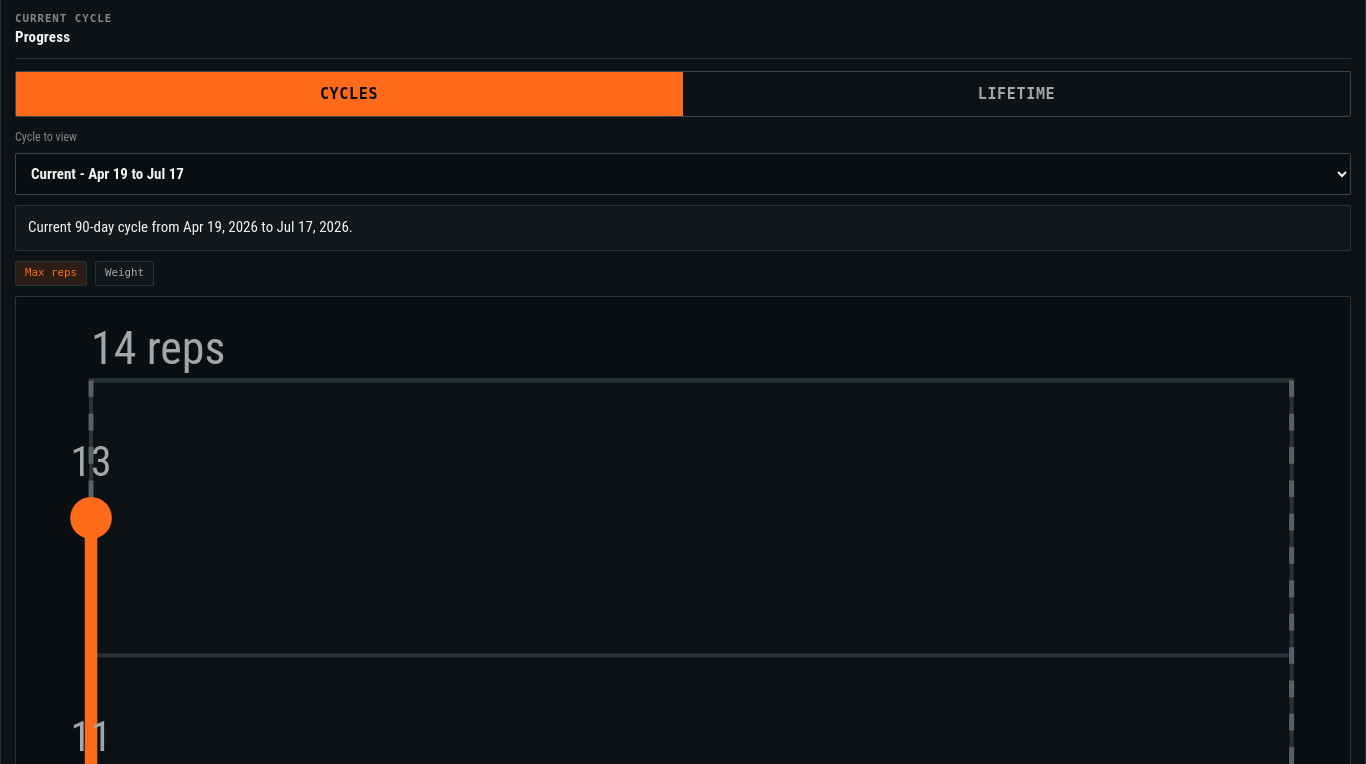
Test case: compact hybrid UI refresh › combines progress charts with clear full-workout history cards
Expected: the text "11" is shown, [70,712,112,761]
Expected: the text "13" is shown, [70,437,112,486]
Click the button "Weight". click: (124, 273)
box: [95,260,154,286]
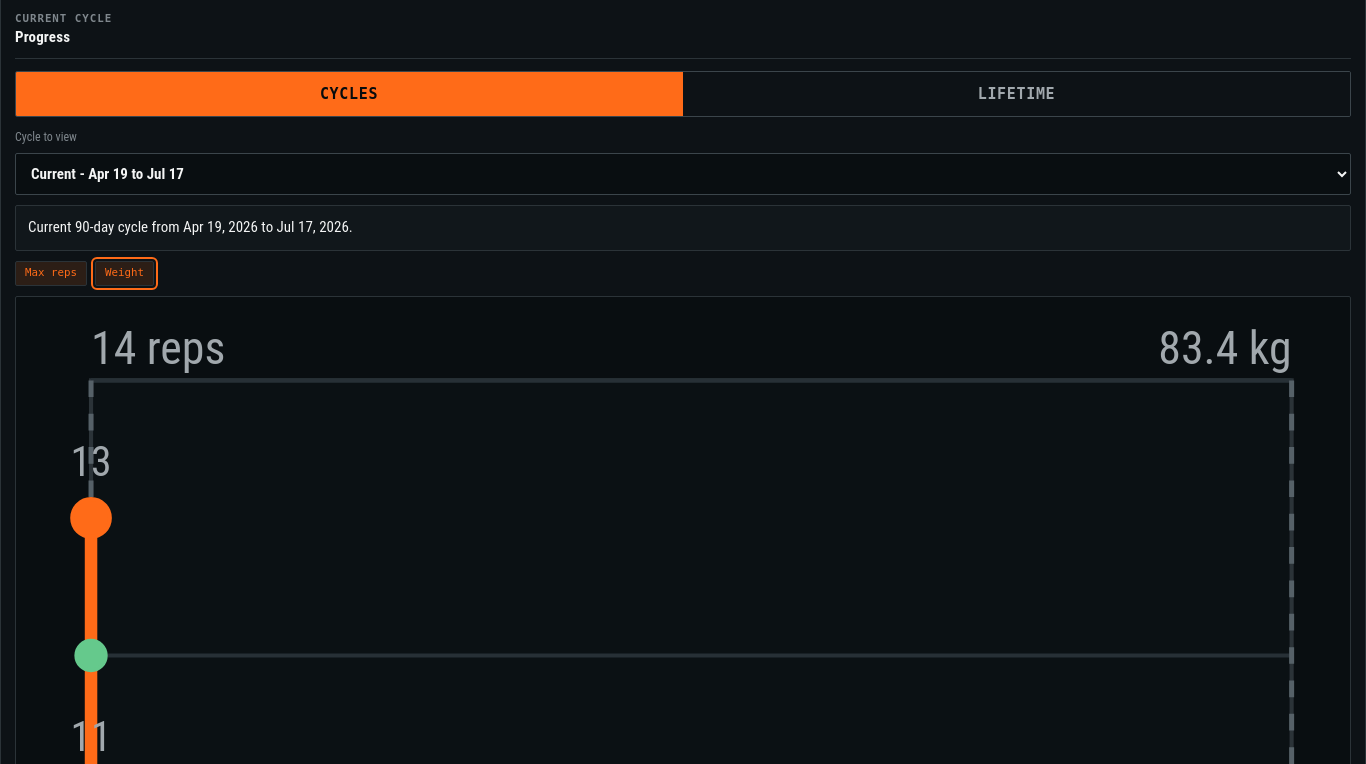
Click the button "Lifetime". click: (1016, 94)
box: [683,72,1350,116]
(page scrolled)
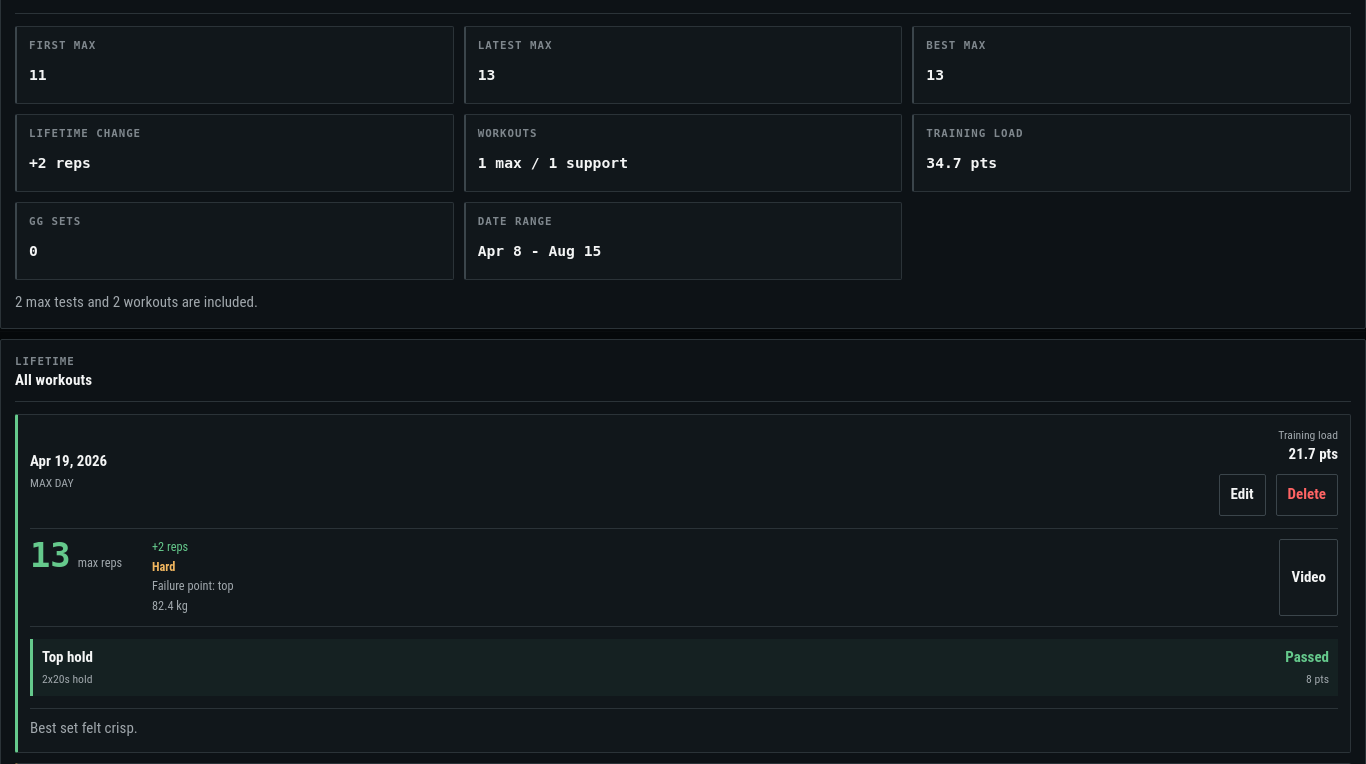
Result: the heading "All workouts" is shown at [15,370,92,392]
Result: the text labelled "Cycle to view" is gone
